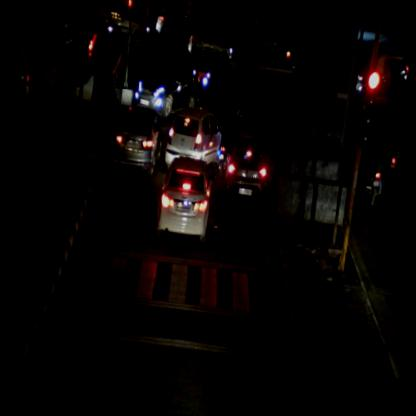car: (152, 154, 215, 249), (132, 53, 199, 119), (162, 103, 224, 173), (111, 101, 163, 176), (222, 136, 270, 211), (187, 28, 235, 64), (154, 9, 200, 41)
motorcycle: (362, 134, 386, 204), (215, 113, 235, 185), (386, 118, 406, 172)
